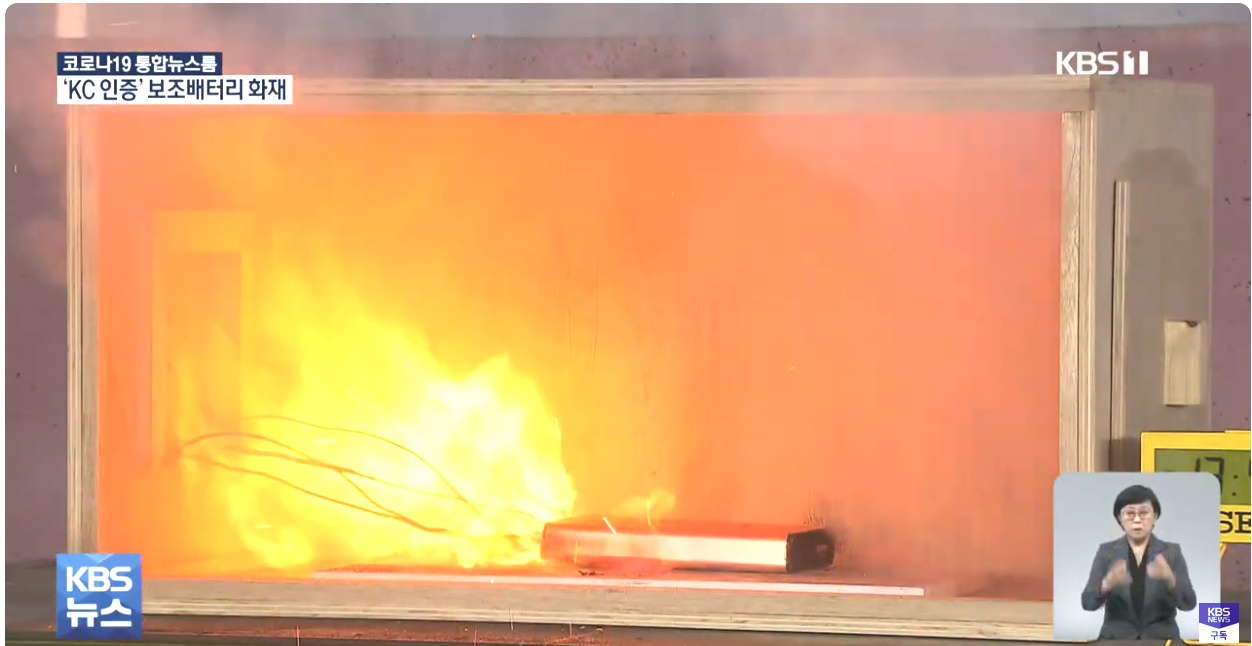fire: (188, 226, 582, 572)
